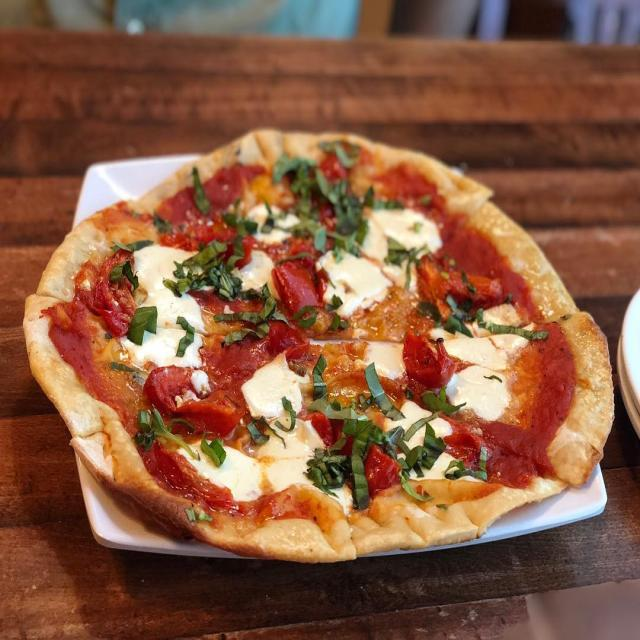pizza: (20, 124, 616, 565)
tomatoes: (139, 365, 245, 437), (330, 422, 401, 494), (94, 241, 134, 338), (402, 329, 455, 388), (272, 260, 328, 315), (438, 271, 502, 311)
